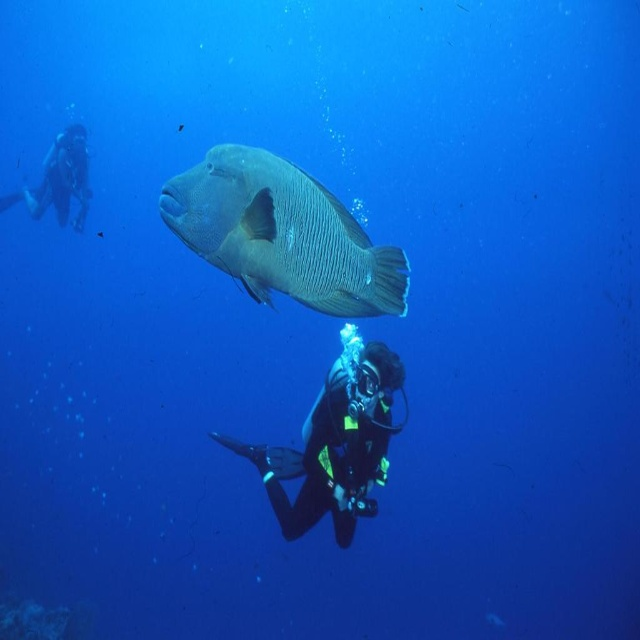Fish: (158, 145, 409, 326)
